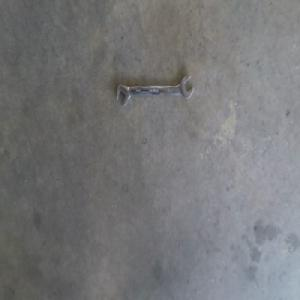Wrench: (115, 75, 195, 107)
